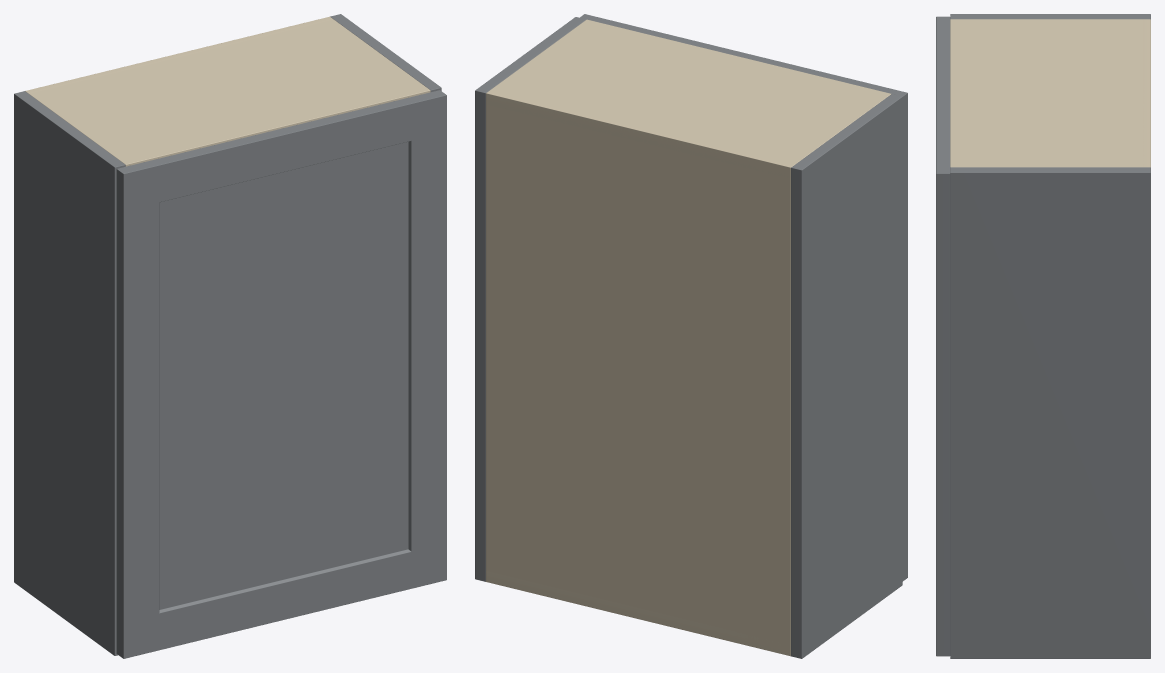
File: oppein-ply-gss-w2130.glb
3 renders of one model, left to right at view 1: azimuth 30°, elevation 25°; view 2: azimuth 150°, elevation 25°; view 3: azimuth 270°, elevation 25°, orthographic.
Visible parts, largest first — view 1: Door, Cabinet side, Cabinet top, Cabinet back, Cabinet side.001; view 2: Cabinet back, Cabinet side, Cabinet top, Cabinet side.001, Door, Cabinet bottom; view 3: Cabinet side.001, Cabinet top, Door, Cabinet back, Cabinet side.
Boxes of the visible parts, x1=… form: Door: x1=116, y1=90, x2=446, y2=658; Cabinet side: x1=14, y1=91, x2=125, y2=655; Cabinet top: x1=25, y1=19, x2=430, y2=166; Cabinet back: x1=26, y1=16, x2=333, y2=93; Cabinet side.001: x1=330, y1=14, x2=441, y2=91; Cabinet back: x1=486, y1=90, x2=794, y2=655; Cabinet side: x1=791, y1=94, x2=902, y2=658; Cabinet top: x1=486, y1=19, x2=890, y2=177; Cabinet side.001: x1=475, y1=17, x2=586, y2=581; Door: x1=580, y1=14, x2=907, y2=581; Cabinet bottom: x1=486, y1=571, x2=790, y2=656; Cabinet side.001: x1=950, y1=167, x2=1150, y2=658; Cabinet top: x1=950, y1=19, x2=1150, y2=167; Door: x1=936, y1=16, x2=950, y2=656; Cabinet back: x1=1142, y1=19, x2=1150, y2=167; Cabinet side: x1=950, y1=14, x2=1150, y2=19.
Bounding box in the file's own units: 0.5334 × 0.762 × 0.3048.
